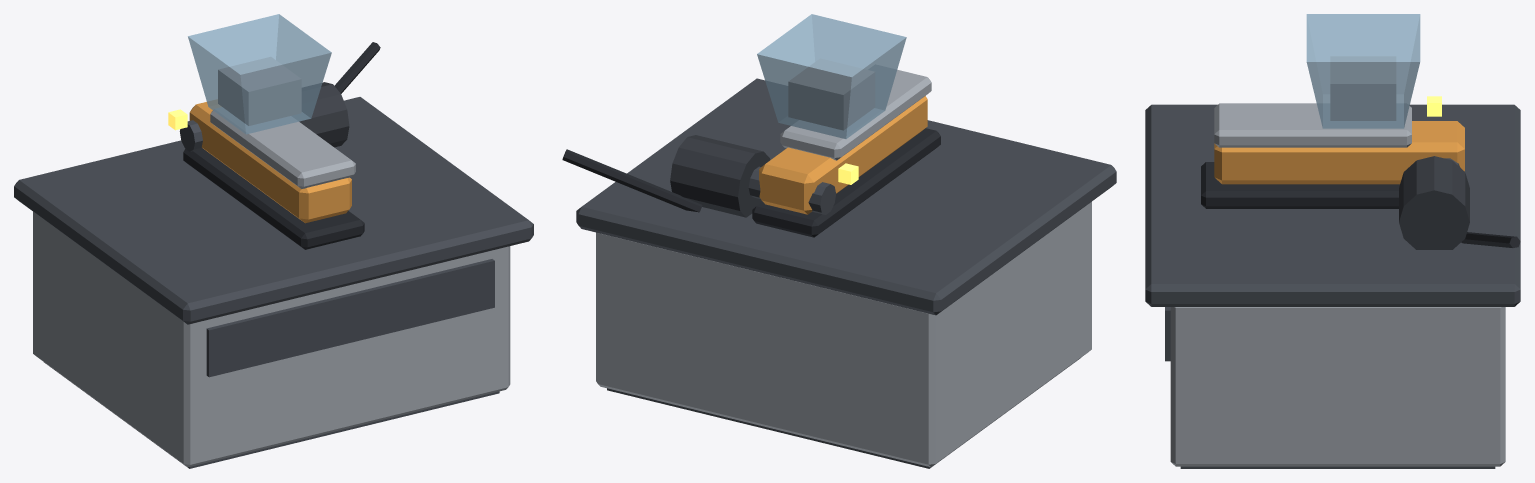
Rendered from artillery_p1_4.glb.
3 views of the same model, side by side, from view 1: azimuth 30°, elevation 25°; view 2: azimuth 150°, elevation 25°; view 3: azimuth 270°, elevation 25° (orthographic). The views are drawn at different scales.
Visible parts, largest first — view 1: artillery_p1_4_mesh_Desk, artillery_p1_4_mesh; view 2: artillery_p1_4_mesh_Desk, artillery_p1_4_mesh; view 3: artillery_p1_4_mesh_Desk, artillery_p1_4_mesh.
Boxes of the visible parts, x1=… form: artillery_p1_4_mesh_Desk: x1=14, y1=97, x2=533, y2=468; artillery_p1_4_mesh: x1=168, y1=14, x2=380, y2=249; artillery_p1_4_mesh_Desk: x1=576, y1=78, x2=1116, y2=468; artillery_p1_4_mesh: x1=562, y1=14, x2=940, y2=237; artillery_p1_4_mesh_Desk: x1=1145, y1=104, x2=1520, y2=468; artillery_p1_4_mesh: x1=1201, y1=14, x2=1520, y2=249.
Size of the model in its own units: 0.8933 by 0.76 by 0.74.
